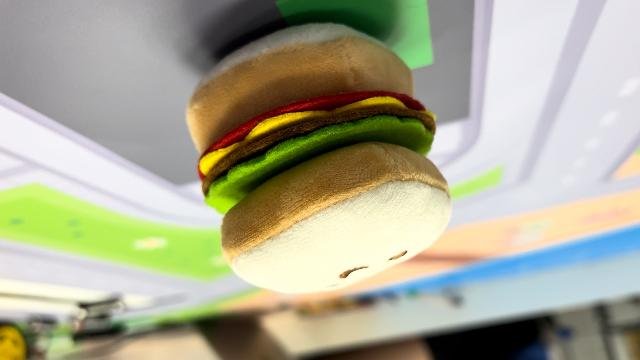sandwich: (183, 22, 455, 294)
